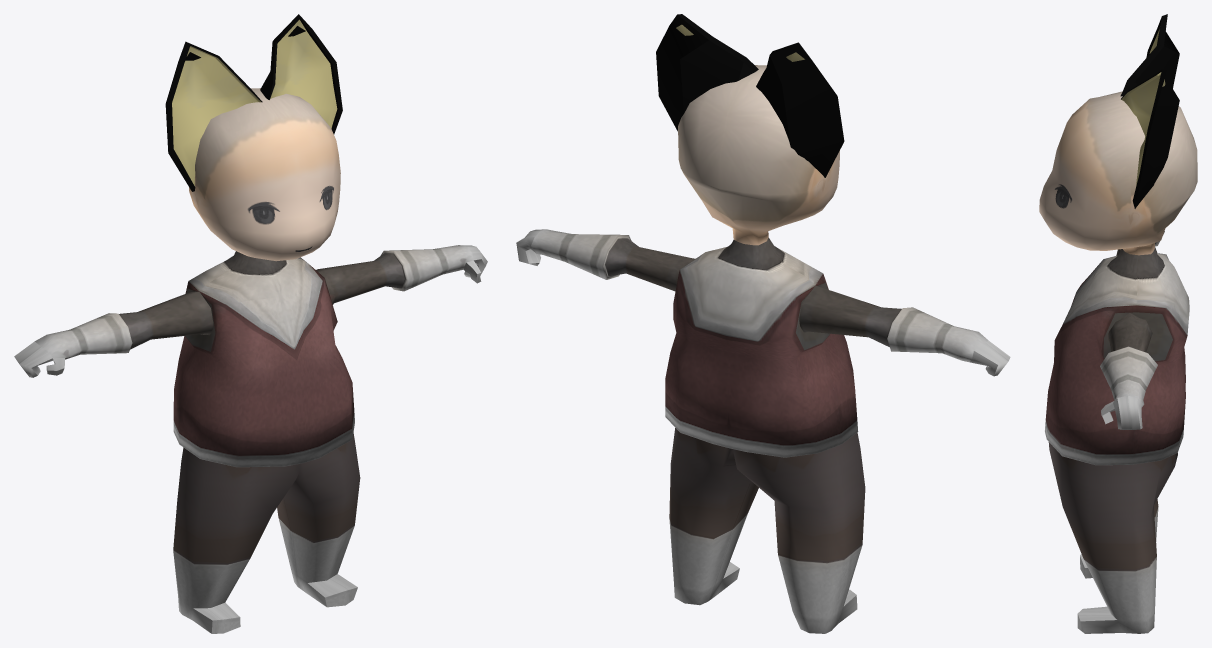
Rendered from Player1.fbx.
3 views of the same model, side by side, from view 1: azimuth 30°, elevation 25°; view 2: azimuth 150°, elevation 25°; view 3: azimuth 270°, elevation 25° (orthographic). The views are drawn at different scales.
Parts seen in each view (by area): view 1: polySurface19, polySurface18, polySurface20, polySurface21; view 2: polySurface19, polySurface18, polySurface20, polySurface21; view 3: polySurface19, polySurface18, polySurface21.
Part boxes in pixels (x1,y1,x2,y2): polySurface19: (165, 14, 354, 467); polySurface18: (173, 433, 360, 633); polySurface20: (14, 291, 213, 377); polySurface21: (316, 245, 487, 304); polySurface19: (656, 14, 858, 457); polySurface18: (669, 428, 865, 633); polySurface20: (799, 285, 1010, 376); polySurface21: (516, 229, 695, 291); polySurface19: (1039, 14, 1197, 465); polySurface18: (1048, 442, 1177, 633); polySurface21: (1100, 313, 1157, 429).
Bounding box in the file's own units: 7.23 × 8.35 × 2.15.
